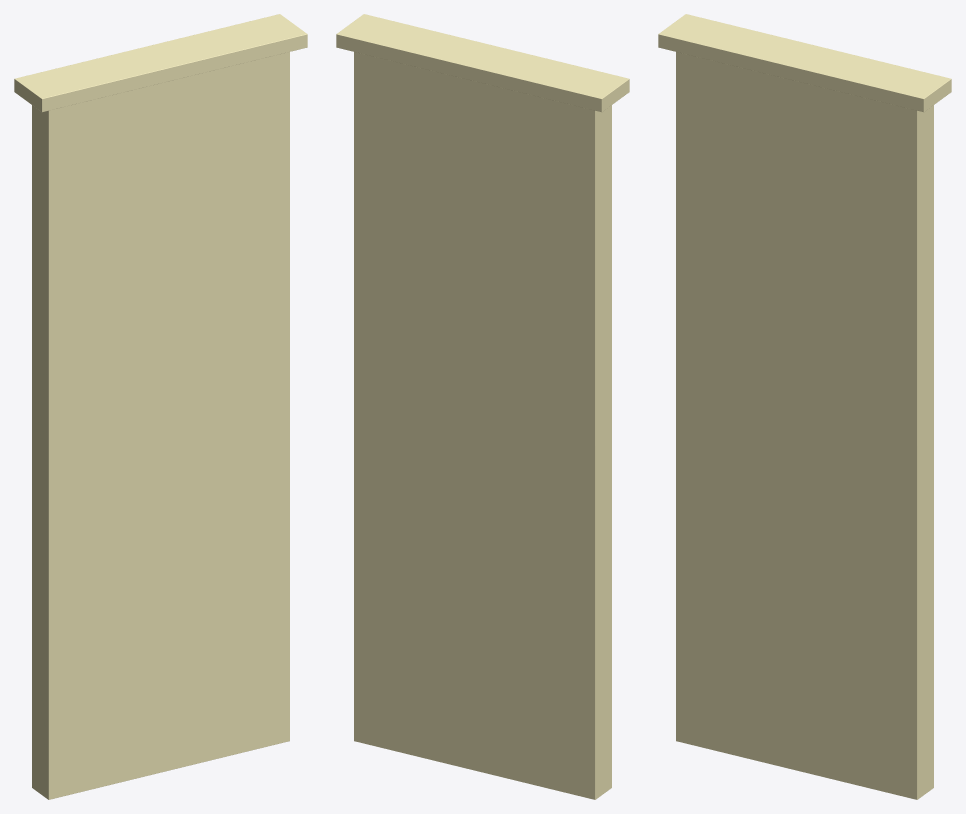
The model's file is tembok 1.fbx.
The picture shows the model from 3 angles, left to right: view 1: azimuth 30°, elevation 25°; view 2: azimuth 150°, elevation 25°; view 3: azimuth 330°, elevation 25°; orthographic projection.
Parts seen in each view (by area): view 1: tembok 1; view 2: tembok 1; view 3: tembok 1.
Boxes of the visible parts, <box> form: tembok 1: <box>14,14,307,799</box>; tembok 1: <box>336,14,629,799</box>; tembok 1: <box>658,14,951,799</box>.
Bounding box in the file's own units: 110 × 280 × 19.91.
